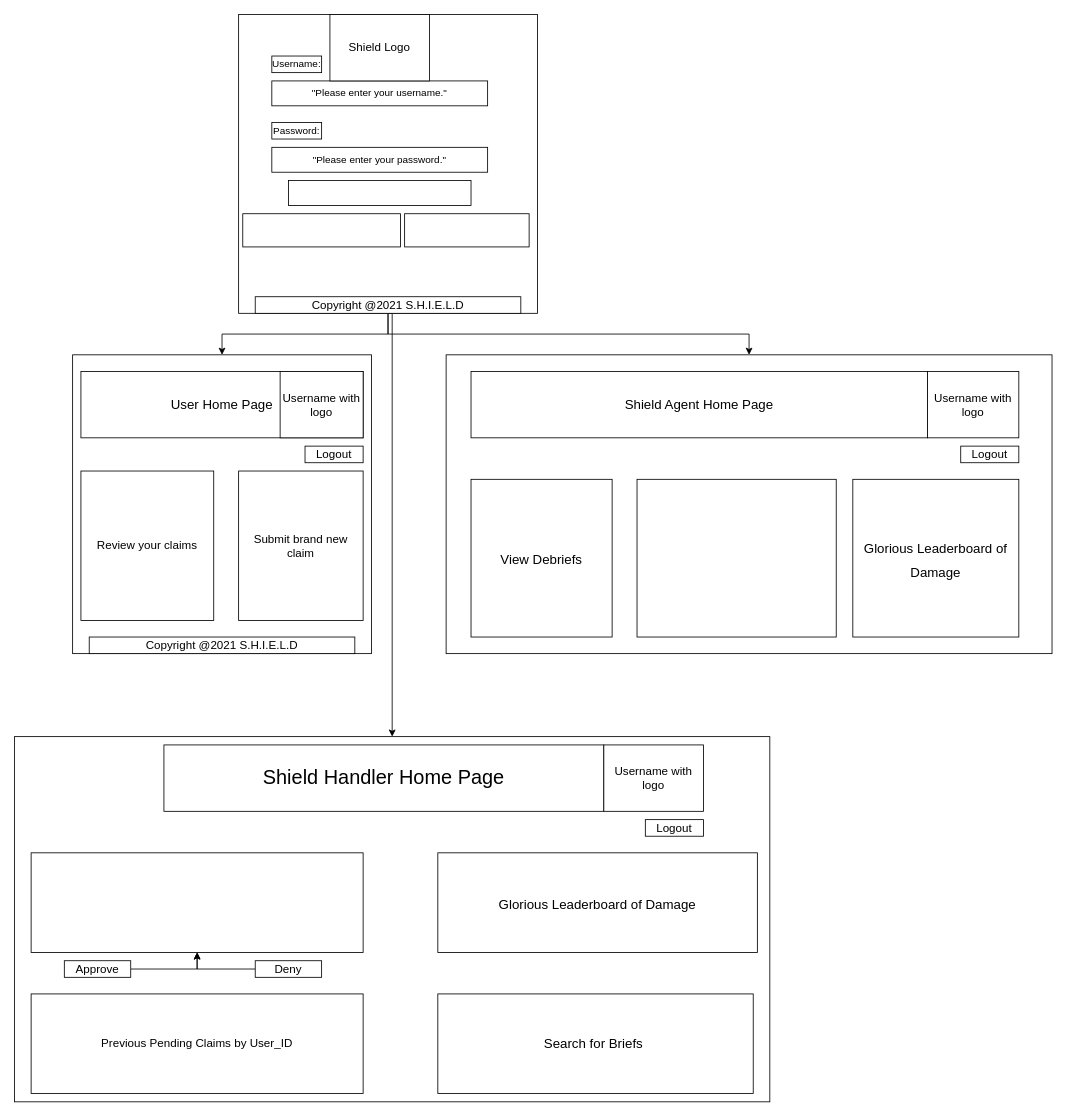
This 1067x1116 diagram has some shape labels left out. The centre of each missing label's shape, as x and y in pixels:
Create an New Account: (x=321, y=230)
Debrief log to explain their reasoning: (x=736, y=557)
Forgot Password: (x=466, y=230)
Login: (x=379, y=192)
Pending Claims: (x=196, y=902)
